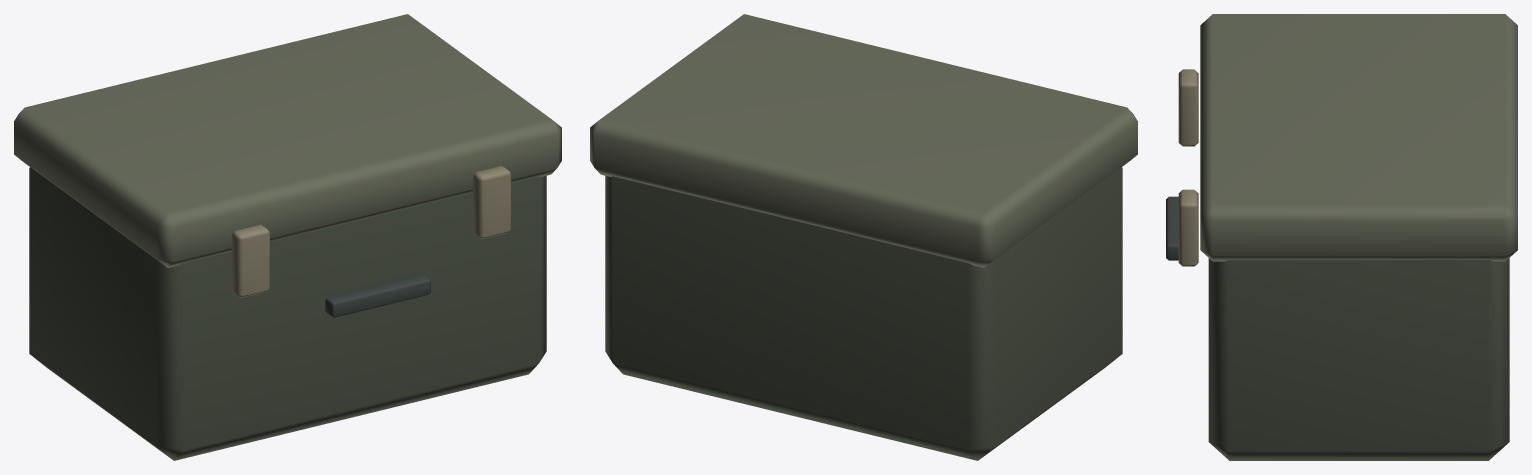
File: SupplyCase02.fbx
3 views of the same model, side by side, from view 1: azimuth 30°, elevation 25°; view 2: azimuth 150°, elevation 25°; view 3: azimuth 270°, elevation 25° (orthographic). The views are drawn at different scales.
Parts seen in each view (by area): view 1: SupplyCase02.001; view 2: SupplyCase02.001; view 3: SupplyCase02.001.
Part boxes in pixels (bbox=[...]): SupplyCase02.001: bbox=[14, 14, 561, 460]; SupplyCase02.001: bbox=[590, 14, 1137, 460]; SupplyCase02.001: bbox=[1166, 14, 1517, 460].
Bounding box in the file's own units: 57 × 34.75 × 42.1.
